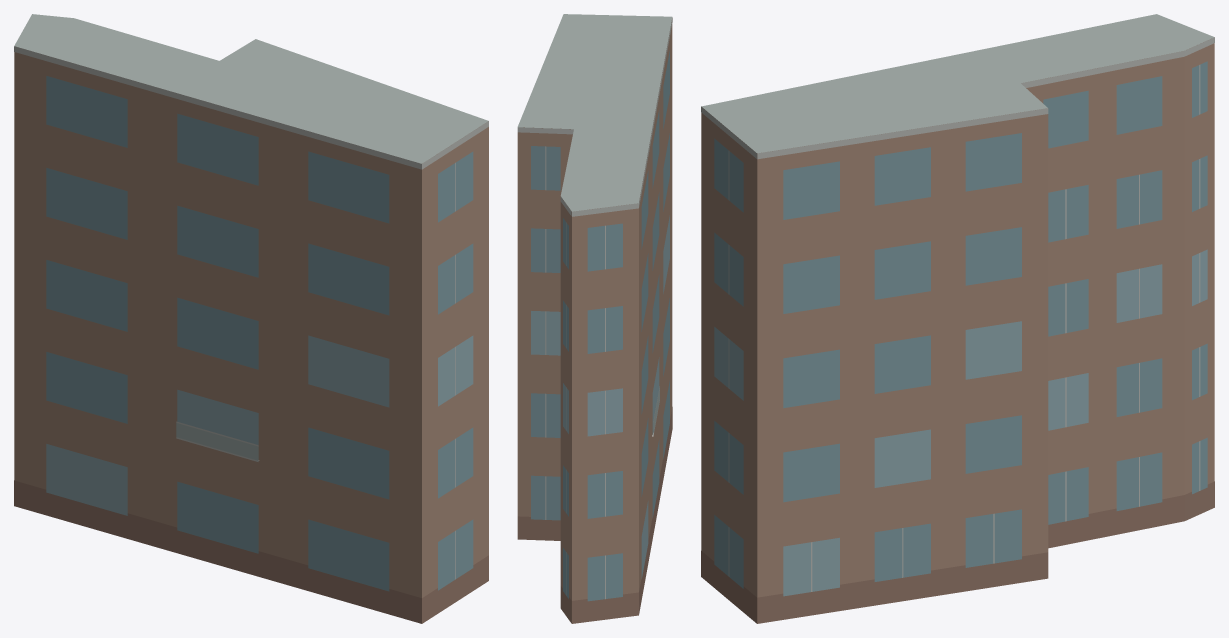
Rendered from survey-upis-32936116.glb.
The picture shows the model from 3 angles, left to right: view 1: azimuth 30°, elevation 25°; view 2: azimuth 150°, elevation 25°; view 3: azimuth 270°, elevation 25°; orthographic projection. The views are drawn at different scales.
Visible parts, largest first — view 1: survey-upis-32936116.tmp; view 2: survey-upis-32936116.tmp; view 3: survey-upis-32936116.tmp.
Part boxes in pixels (x1,y1,x2,y2): survey-upis-32936116.tmp: (14, 14, 488, 623); survey-upis-32936116.tmp: (517, 14, 672, 623); survey-upis-32936116.tmp: (701, 14, 1214, 623).
Bounding box in the file's own units: 12.34 × 19.4 × 19.2.
